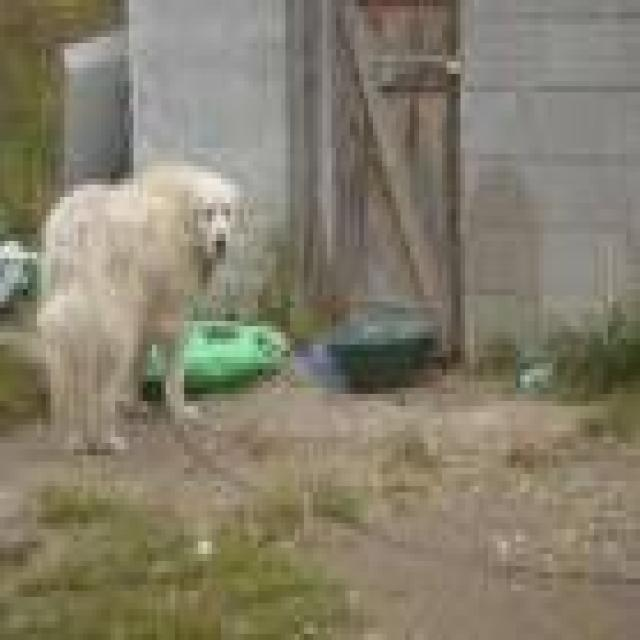dog: (32, 160, 235, 449)
